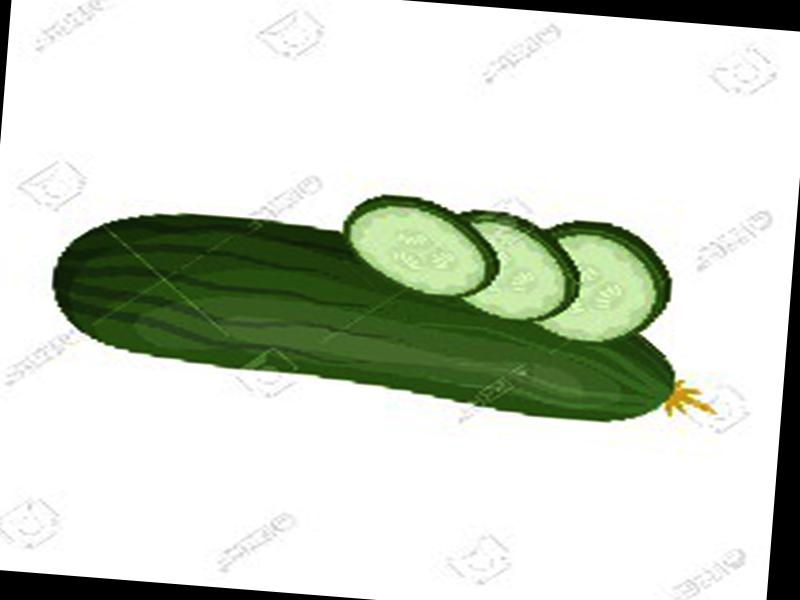Cucumber: (41, 202, 722, 429)
